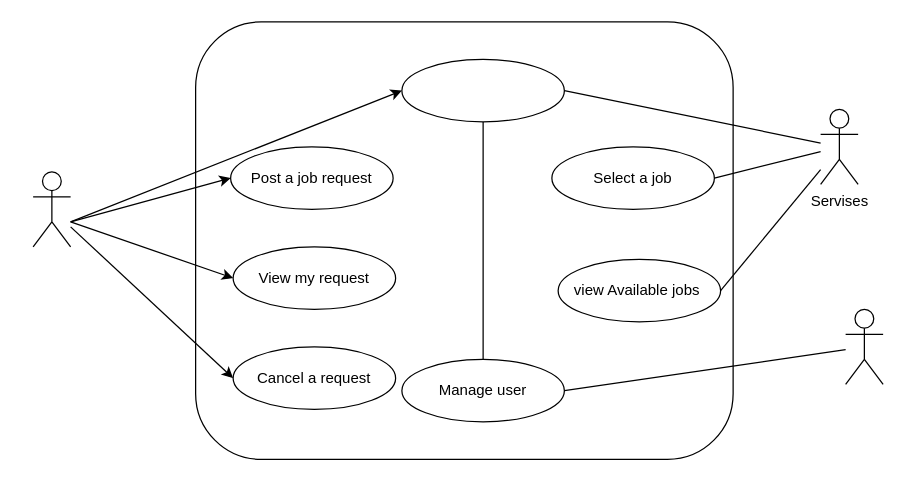
Some shapes in this 908 by 481 pixel diagram are drawn without their labels. The centre of each missing label's shape, as x and y in pixels:
"Admin" belongs at (863,346).
"customer" belongs at (51,209).
"Register / Log in" belongs at (482,90).
